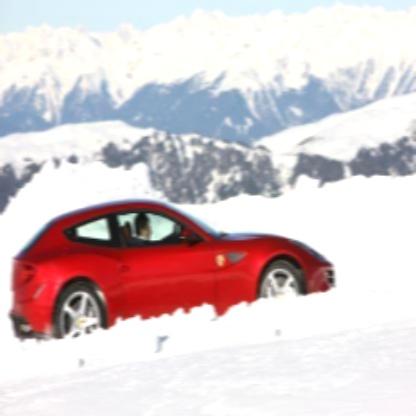Vehicle: (9, 198, 336, 346)
